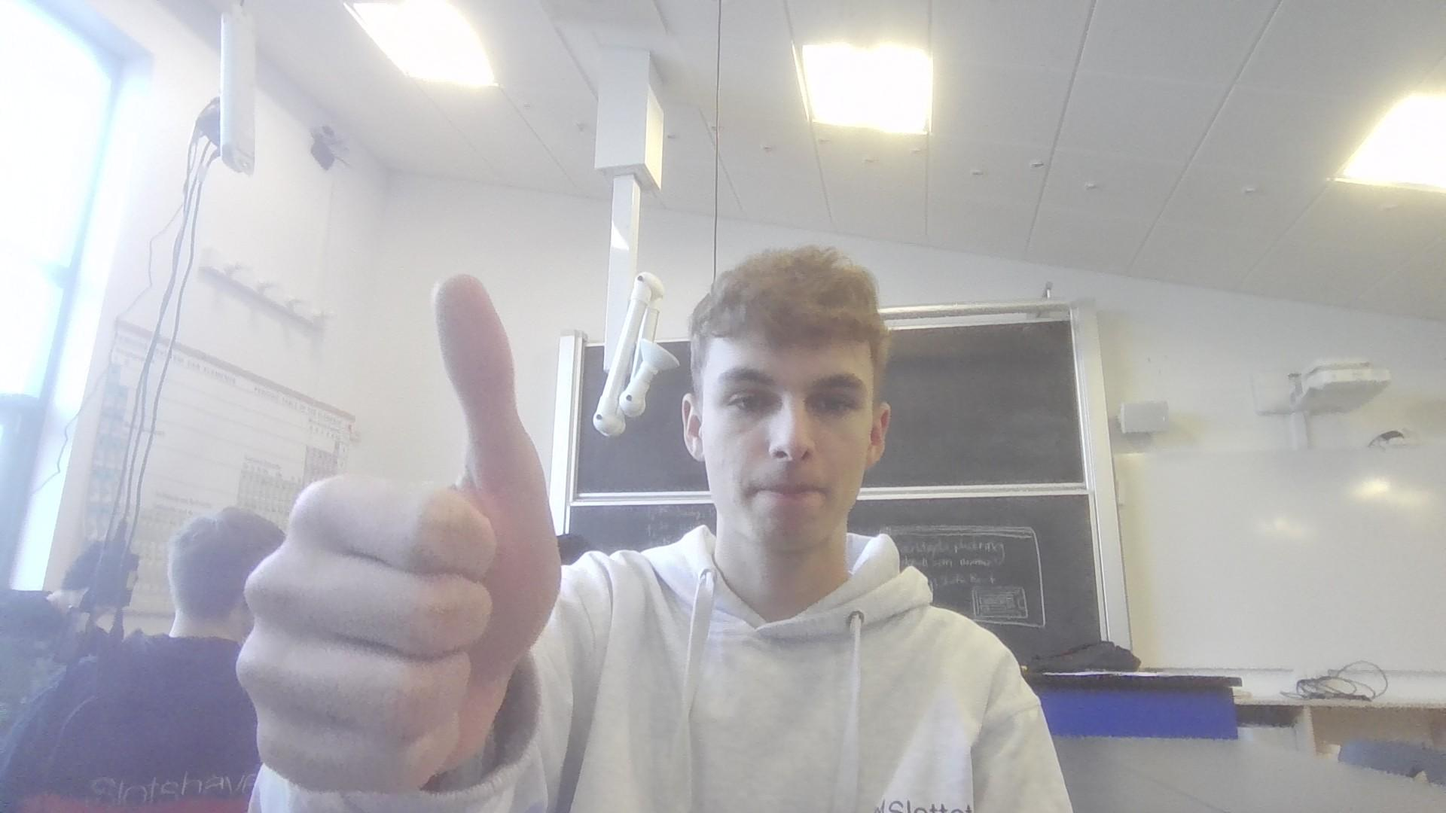thumbs up: (232, 272, 567, 797)
